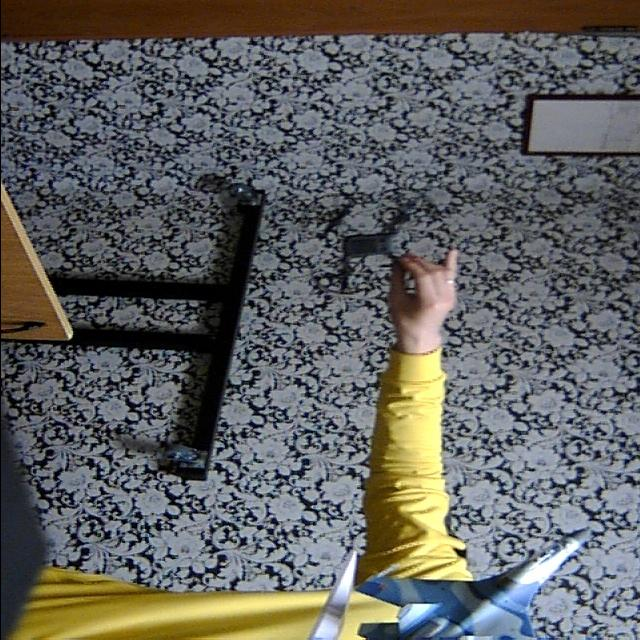drone: (298, 180, 466, 304)
